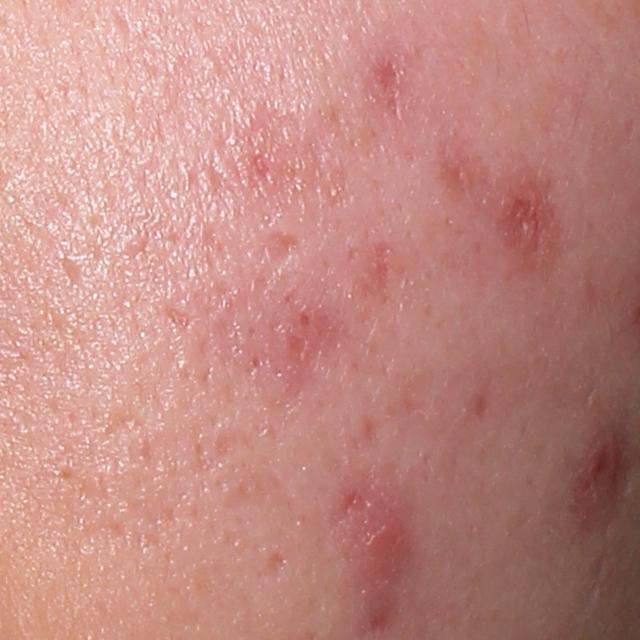atrophic_scar: (277, 299, 352, 387), (496, 179, 565, 269), (365, 230, 405, 313), (369, 55, 410, 121), (258, 234, 301, 274), (57, 246, 90, 293), (255, 543, 290, 584)
papule: (569, 438, 635, 530), (355, 496, 410, 571)
